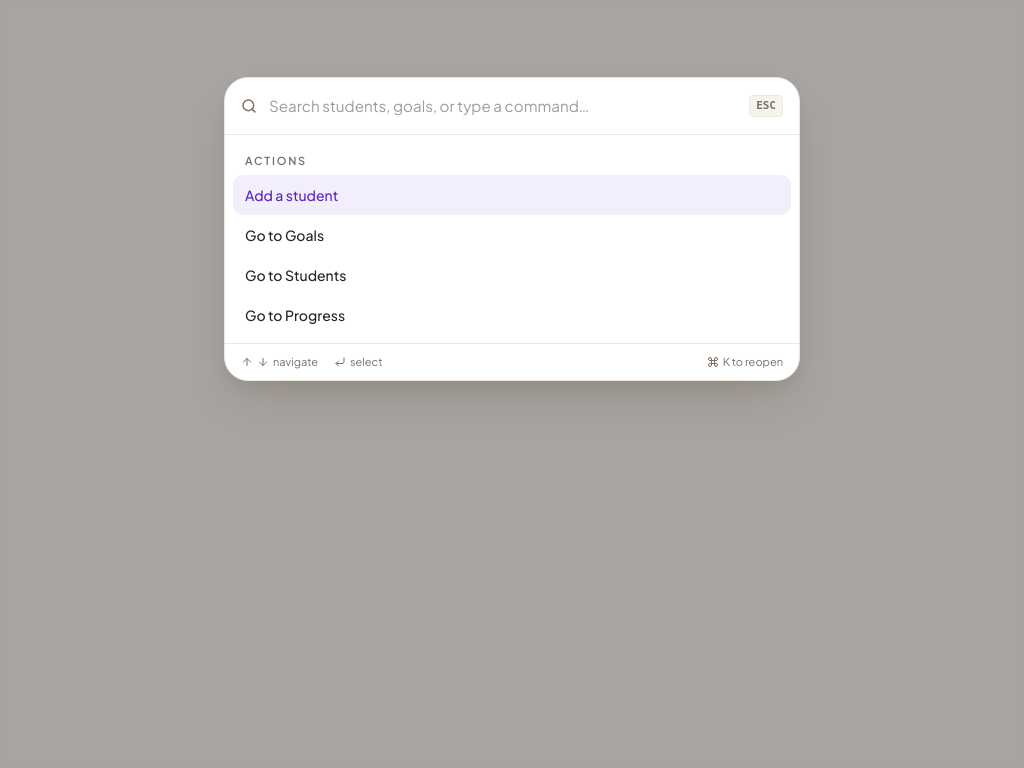
CommandPalette › finds a student by name
Type "maya" into the field at (503, 106), box [269,78,737,134]
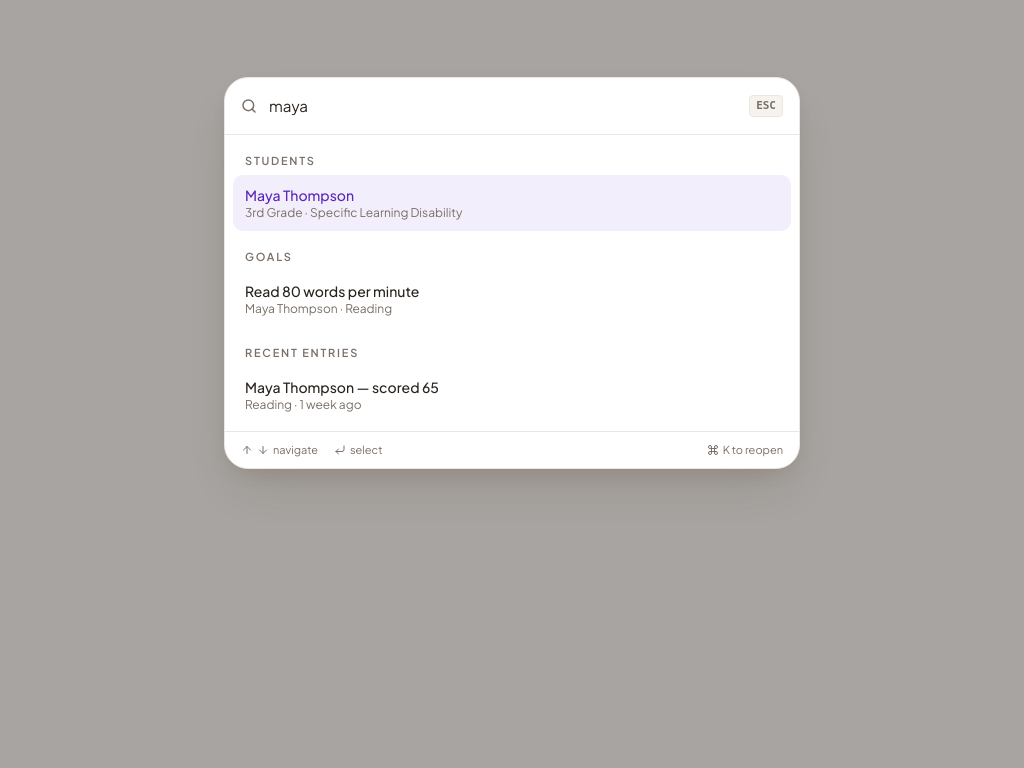
Check: the text "Maya Thompson" is shown, box [245,186,354,204]
